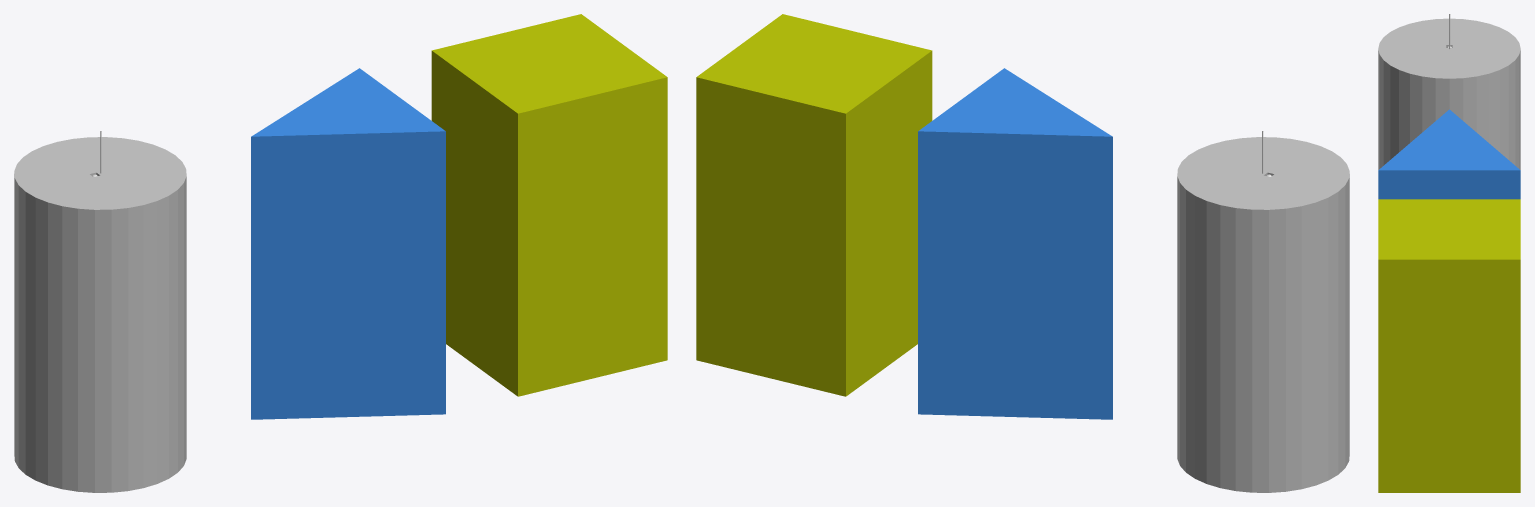
File: SquidFinalGame.fbx
3 views of the same model, side by side, from view 1: azimuth 30°, elevation 25°; view 2: azimuth 150°, elevation 25°; view 3: azimuth 270°, elevation 25° (orthographic). The views are drawn at different scales.
Parts seen in each view (by area): view 1: Cube, Cube.001, Cylinder; view 2: Cube, Cube.001, Cylinder; view 3: Cube, Cylinder, Cube.001.
Part boxes in pixels (x1,y1,x2,y2): Cube: (431, 14, 667, 396); Cube.001: (251, 68, 445, 419); Cylinder: (14, 137, 186, 492); Cube: (696, 14, 932, 396); Cube.001: (918, 68, 1112, 419); Cylinder: (1177, 137, 1349, 492); Cube: (1378, 199, 1520, 492); Cylinder: (1378, 18, 1520, 169); Cube.001: (1378, 109, 1520, 199).
Size of the model in its own units: 801 by 415 by 200.
